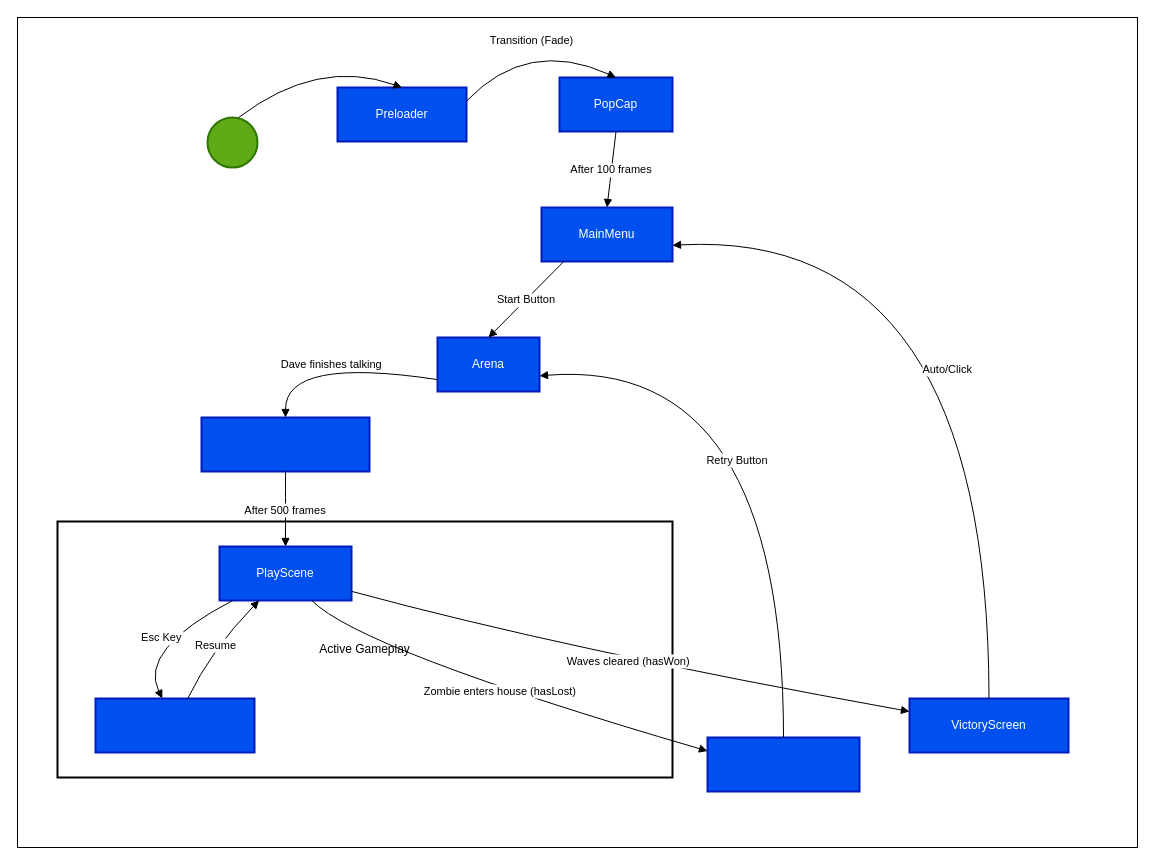
Image size: 1155x865. Some labels were removed from this diagram. Here are the shapes that lost their labels. From the top down, the centre of each, then its label:
the point at 232,142: Start
the point at 285,444: Arena Scrolling
the point at 174,725: Settings Menu
the point at 783,764: ResultScreen
